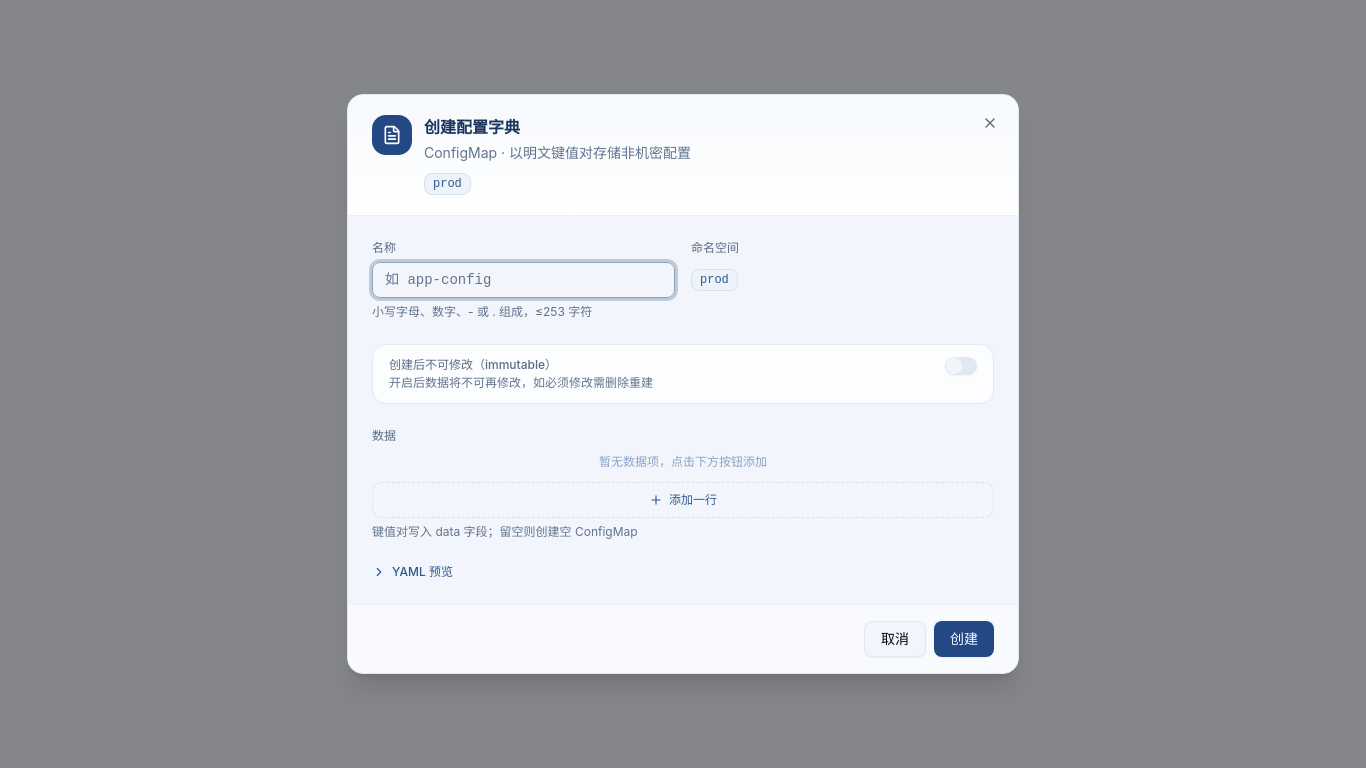
Test case: CmCreateDialog › flags an invalid data key and blocks the submit
Type "app-config" into the field named "名称".
click(524, 280); type("app-config")  # box [372, 262, 675, 298]
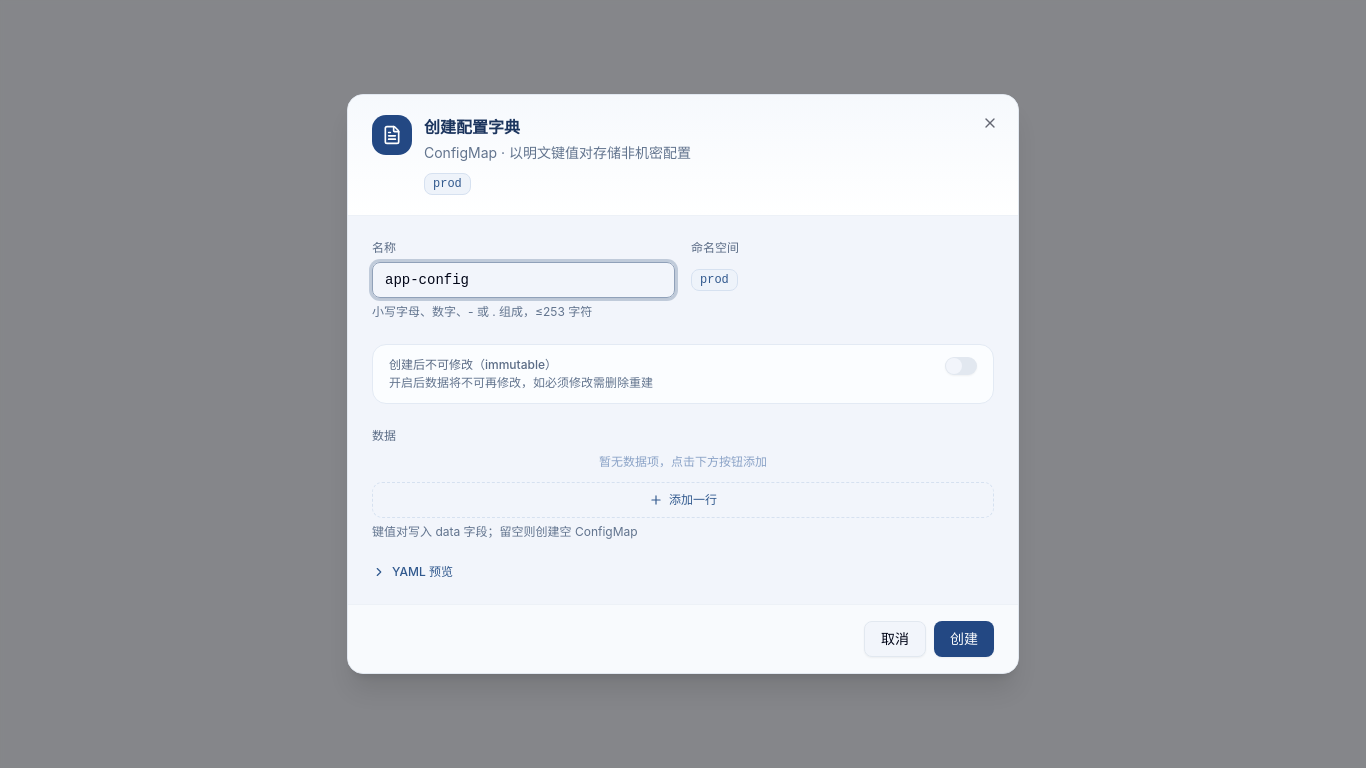
Click the button "添加一行".
click(683, 500)  # box [372, 482, 994, 518]
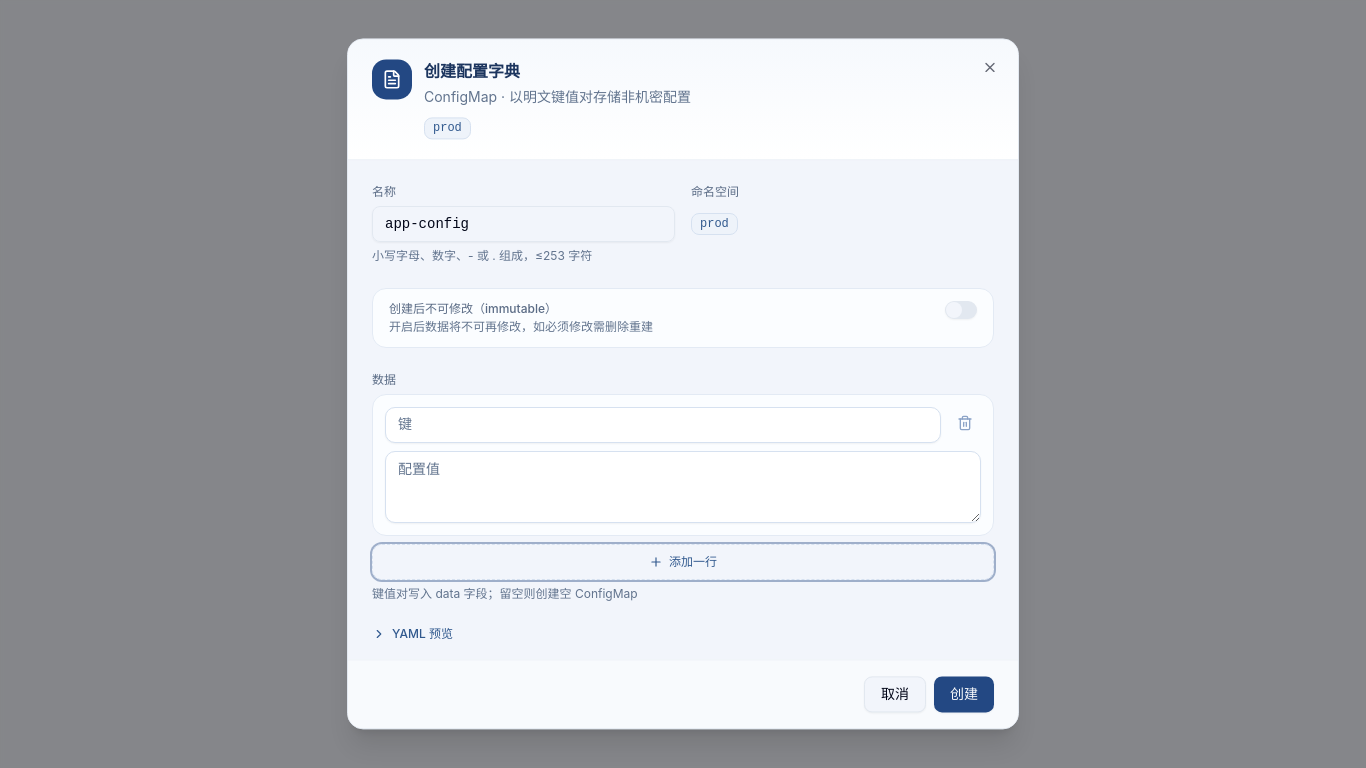
Type "bad key!" into the field named "键 1".
click(663, 425); type("bad key!")  # box [385, 407, 941, 443]
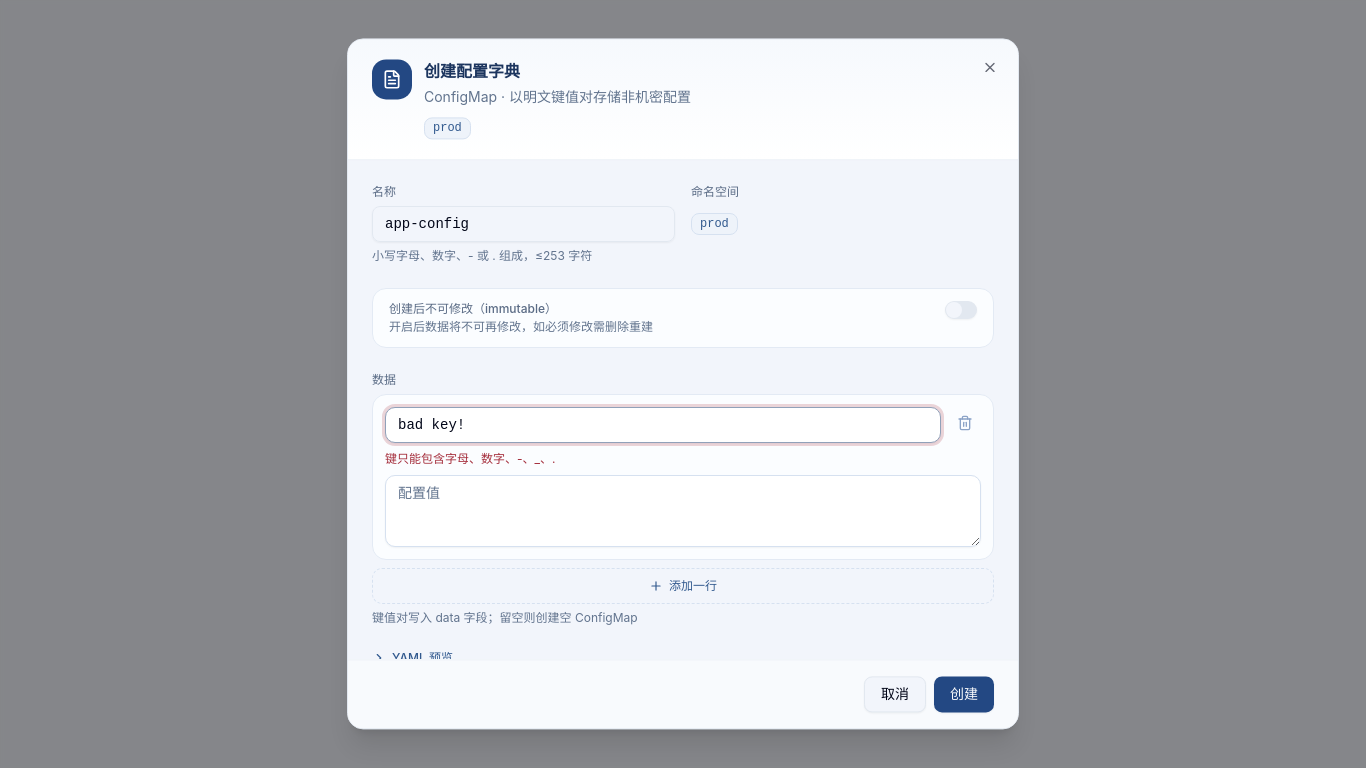
Click the button "创建".
click(964, 695)  # box [934, 677, 994, 713]
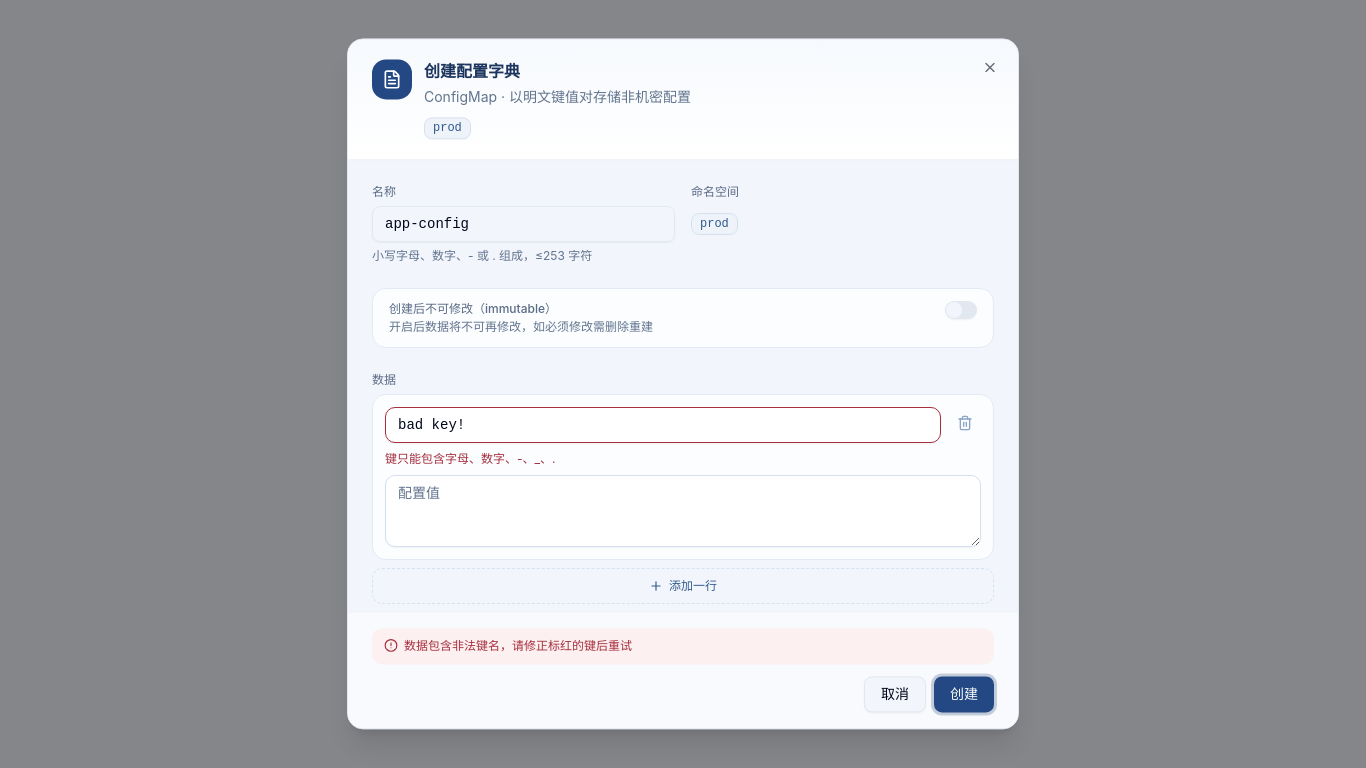
Check: the text "数据包含非法键名，请修正标红的键后重试" is shown, box [404, 637, 632, 657]
